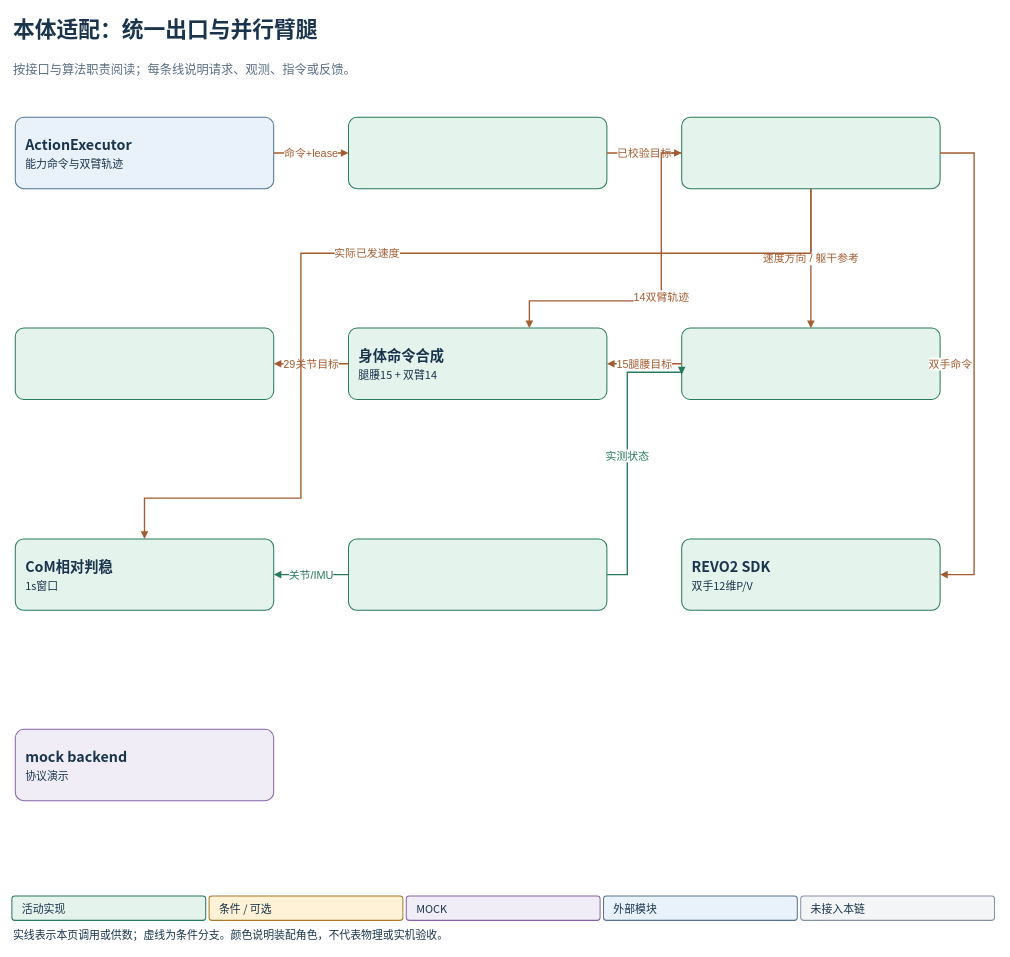
Image size: 1010x957. Some labels were removed from this diagram. The centre of each missing label's shape, as x and y in pixels:
"AMO策略 实测肩肘参与观测" goes at pixel 810 363.
"BodyGateway / SW-11 lease与protection" goes at pixel 477 152.
"G1AmoBodyBackend 目标TTL与周期调度" goes at pixel 810 152.
"SDK控制会话 rt/user_lowcmd" goes at pixel 144 363.
"真实反馈缓存 q/dq/IMU/手/触觉" goes at pixel 477 574.
